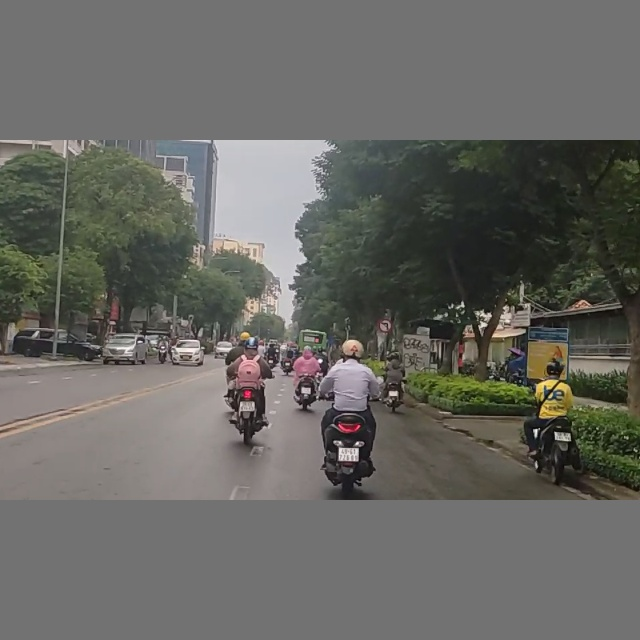P.123a: (377, 319, 393, 333)
